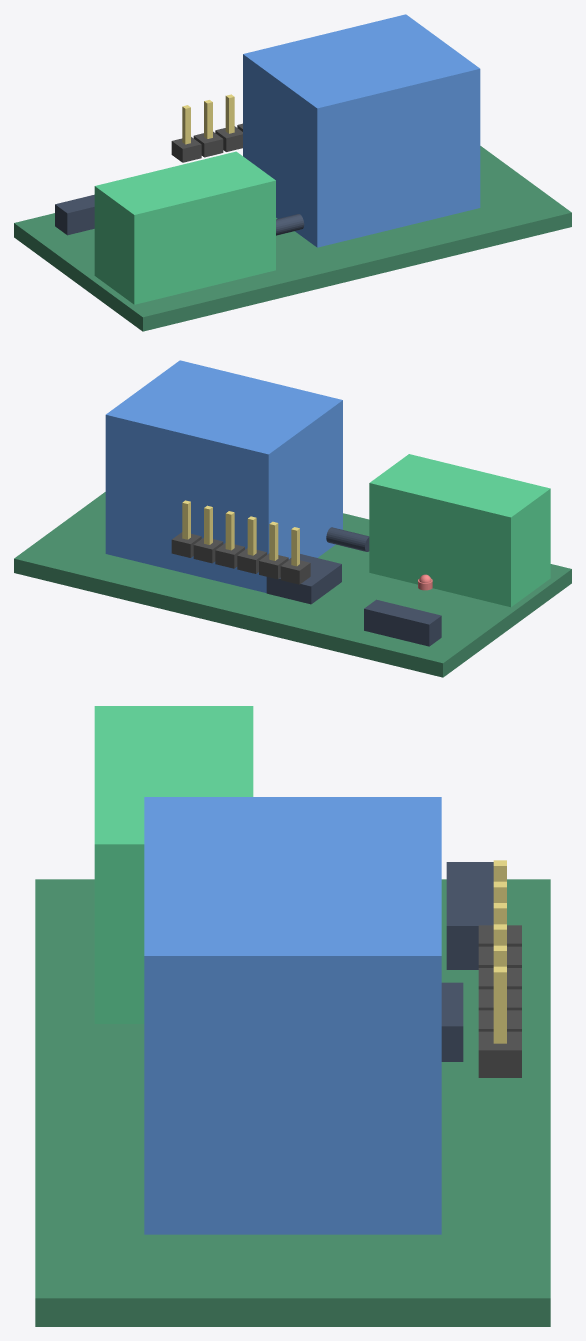
File: relay-module-5v-1ch.glb
3 renders of one model, top to bottom at view 1: azimuth 30°, elevation 25°; view 2: azimuth 150°, elevation 25°; view 3: azimuth 270°, elevation 25°, orthographic. The views are drawn at different scales.
Visible parts, largest first — view 1: relay-module-5v-1ch_mesh; view 2: relay-module-5v-1ch_mesh; view 3: relay-module-5v-1ch_mesh.
Part boxes in pixels (left/top/right/bottom): relay-module-5v-1ch_mesh: left=14, top=14, right=571, bottom=331; relay-module-5v-1ch_mesh: left=14, top=360, right=571, bottom=677; relay-module-5v-1ch_mesh: left=35, top=706, right=550, bottom=1326.
Size of the model in its own units: 50 by 17.15 by 26.
